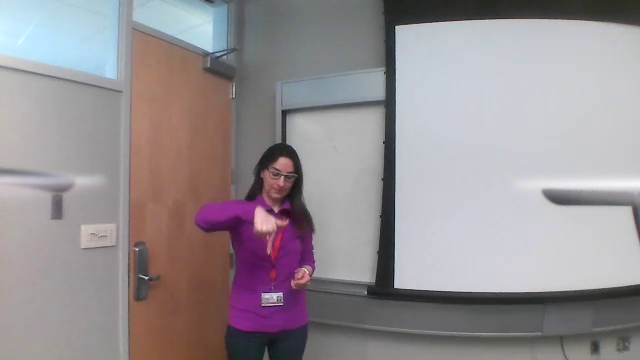down: (247, 198, 281, 254)
